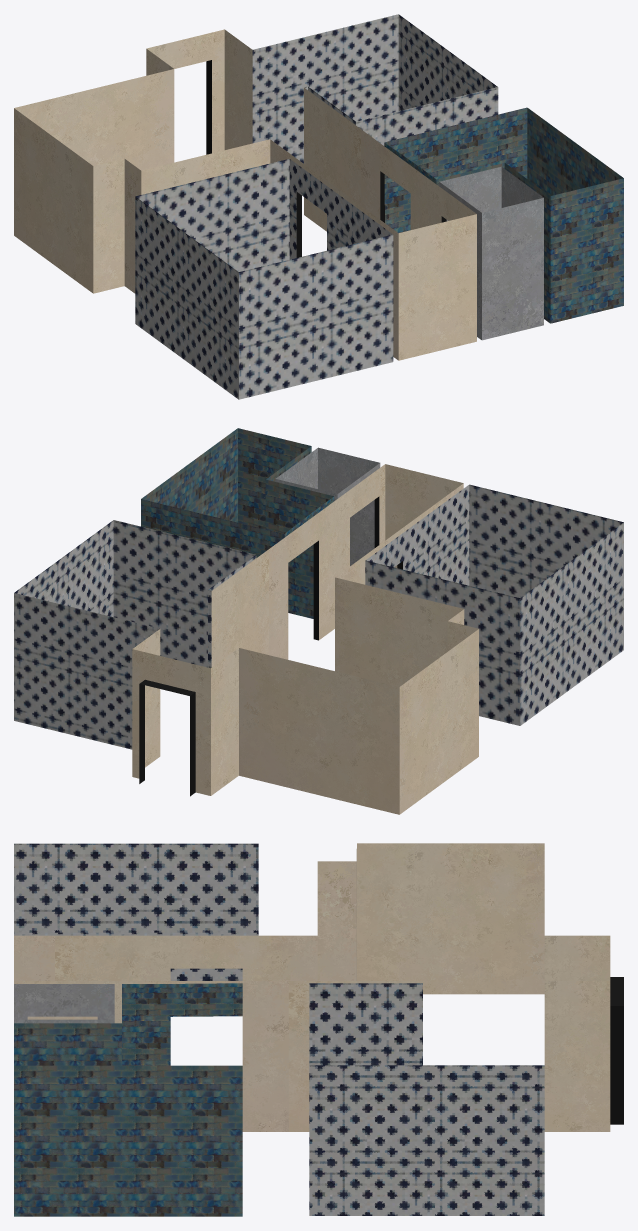
Rendered from PAREDES CASA.fbx.
3 renders of one model, top to bottom at view 1: azimuth 30°, elevation 25°; view 2: azimuth 150°, elevation 25°; view 3: azimuth 270°, elevation 25°, orthographic. The views are drawn at different scales.
Parts seen in each view (by area): view 1: PAREDES.043, PAREDES.061, PAREDES.042, PAREDES.041, PAREDES.034, PAREDES.033, PAREDES.046, PAREDES.048, PAREDES.072, PAREDES.047, PAREDES.054, PAREDES.060 (+14 smaller); view 2: PAREDES.033, PAREDES.061, PAREDES.042, PAREDES.072, PAREDES.059, PAREDES.043, PAREDES.034, PAREDES.037, PAREDES.041, PAREDES.044, PAREDES.060, PAREDES.053 (+13 smaller); view 3: PAREDES.060, PAREDES.053, PAREDES.034, PAREDES.042, PAREDES.038, PAREDES.072, PAREDES.062, PAREDES.058, PAREDES.055, PAREDES.036, PAREDES.051, PAREDES.069 (+3 smaller).
Boxes of the visible parts, box(x1,y1,x2,y2) form: PAREDES.043: box(239, 234, 393, 399); PAREDES.061: box(252, 14, 398, 163); PAREDES.042: box(135, 196, 238, 399); PAREDES.041: box(135, 159, 289, 271); PAREDES.034: box(14, 108, 93, 293); PAREDES.033: box(14, 69, 174, 170); PAREDES.046: box(398, 214, 476, 360); PAREDES.048: box(550, 178, 623, 323); PAREDES.072: box(304, 87, 476, 231); PAREDES.047: box(482, 198, 543, 340); PAREDES.054: box(384, 107, 527, 232); PAREDES.060: box(398, 14, 497, 110); PAREDES.033: box(239, 648, 399, 814); PAREDES.061: box(14, 593, 159, 749); PAREDES.042: box(520, 522, 623, 725); PAREDES.072: box(211, 464, 385, 667); PAREDES.059: box(113, 520, 255, 667); PAREDES.043: box(469, 484, 623, 597); PAREDES.034: box(399, 629, 478, 814); PAREDES.037: box(335, 577, 463, 686); PAREDES.041: box(365, 560, 520, 725); PAREDES.044: box(366, 485, 469, 585); PAREDES.060: box(14, 520, 113, 616); PAREDES.053: box(141, 428, 237, 522); PAREDES.060: box(309, 1065, 544, 1215); PAREDES.053: box(14, 1065, 242, 1216); PAREDES.034: box(357, 843, 544, 994); PAREDES.042: box(14, 843, 258, 980); PAREDES.038: box(14, 935, 317, 1019); PAREDES.072: box(14, 981, 422, 1131); PAREDES.062: box(544, 981, 610, 1131); PAREDES.058: box(309, 983, 422, 1065); PAREDES.055: box(122, 983, 242, 1065); PAREDES.036: box(317, 861, 356, 980); PAREDES.051: box(14, 1023, 121, 1065); PAREDES.069: box(14, 984, 114, 1019).
Size of the model in its own units: 959 by 303 by 1111.
Materials: 5 (4 with a texture image).
